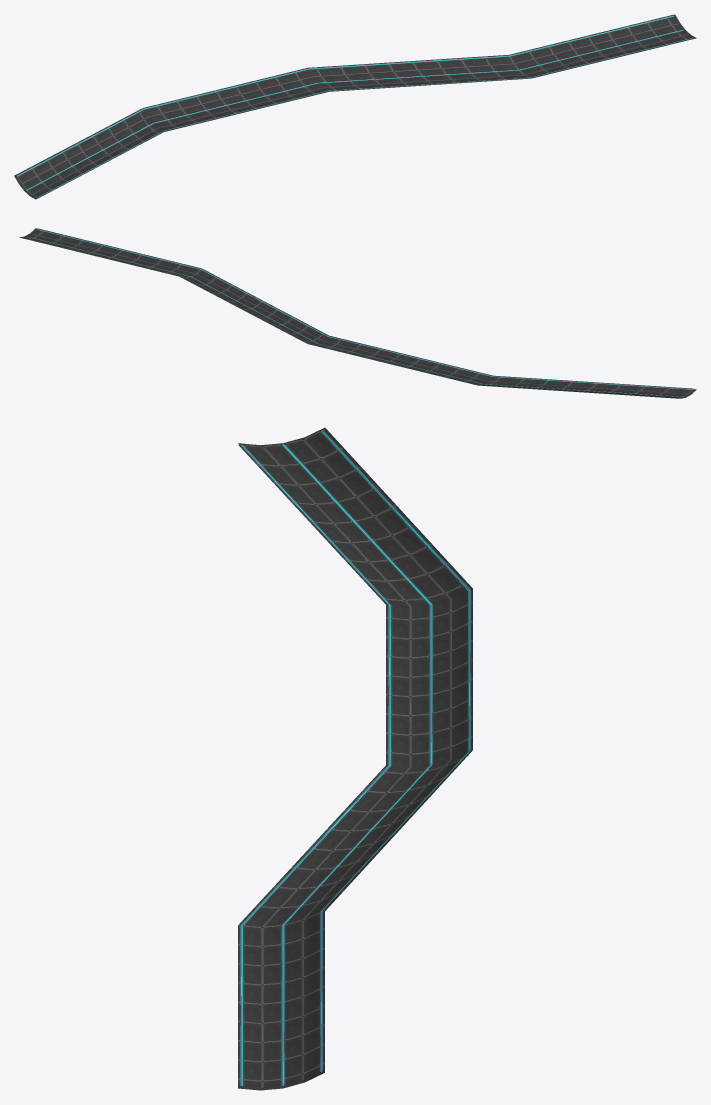
The model's file is movingPath2.fbx.
3 renders of one model, top to bottom at view 1: azimuth 30°, elevation 25°; view 2: azimuth 150°, elevation 25°; view 3: azimuth 270°, elevation 25°, orthographic. The views are drawn at different scales.
Visible parts, largest first — view 1: tube; view 2: tube; view 3: tube.
Part boxes in pixels (x1,y1,x2,y2): tube: (14, 14, 696, 199); tube: (19, 228, 696, 398); tube: (238, 427, 472, 1090).
Bounding box in the file's own units: 3712 × 49.13 × 572.
